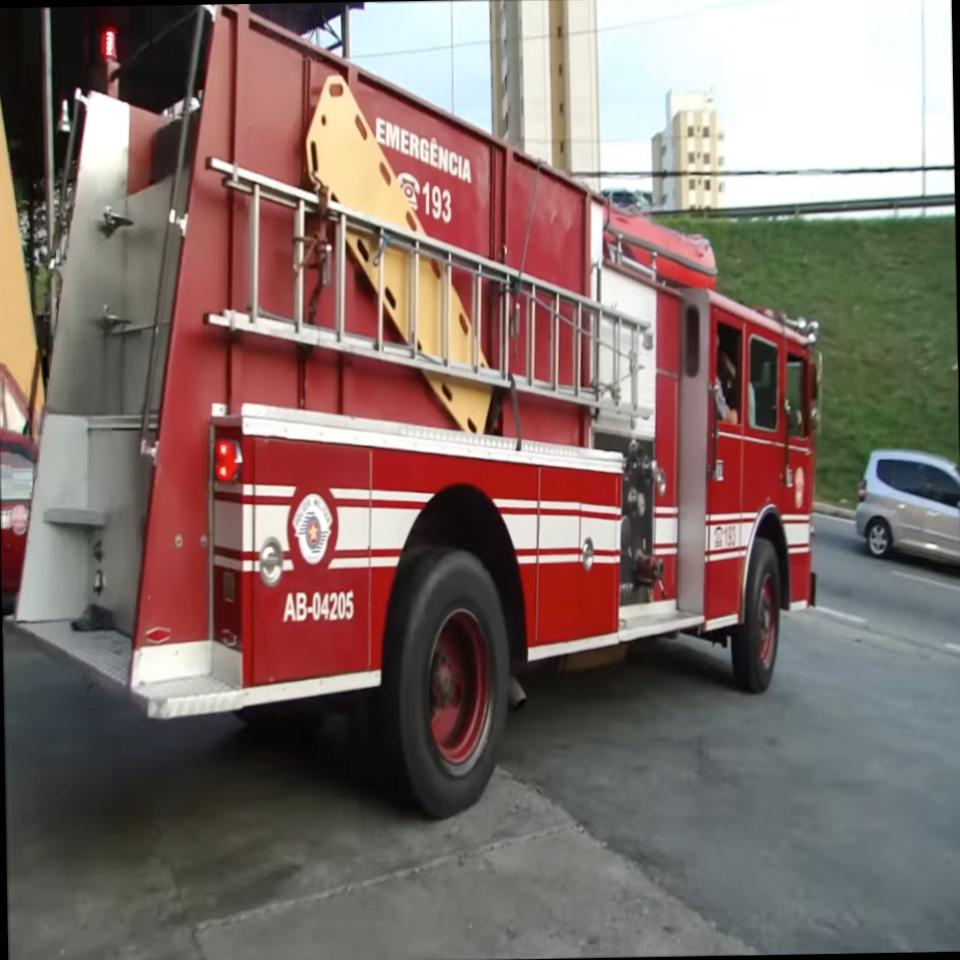viatura: (0, 0, 836, 827)
